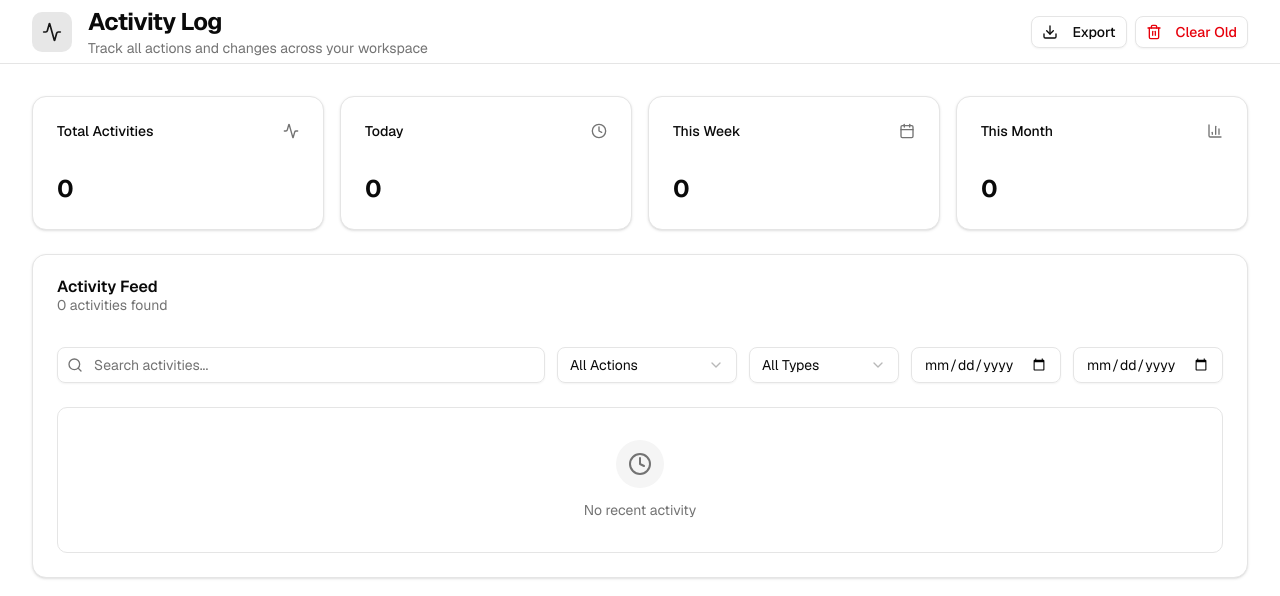
Test: ActivityLogPage › should show clear filters button when filters are applied
This screenshot has width=1280, height=596.
Step 1. Type "test" into the field with placeholder "Search activities..." → (301, 365), box [57, 347, 545, 383]
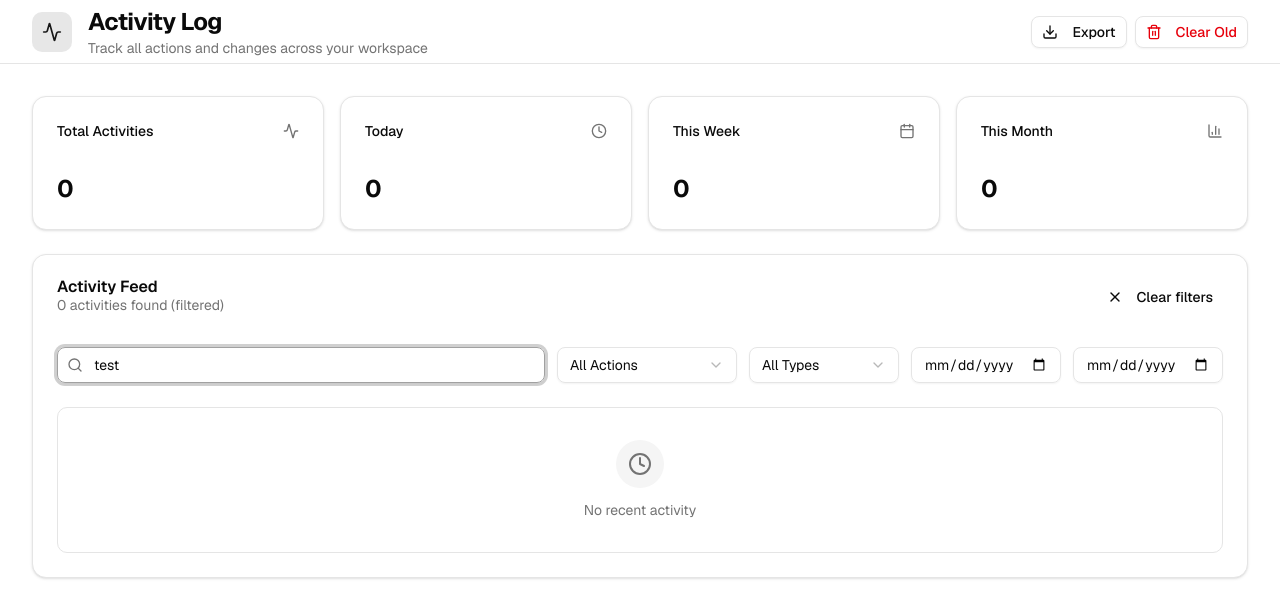
Now the button "Clear filters" is shown, box [1096, 281, 1223, 313]
